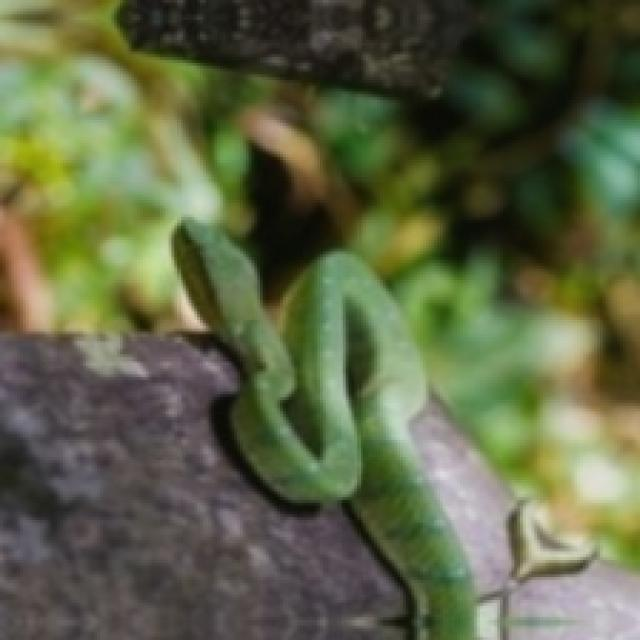north ph temple pitviper: (171, 220, 471, 637), (174, 220, 471, 637)
